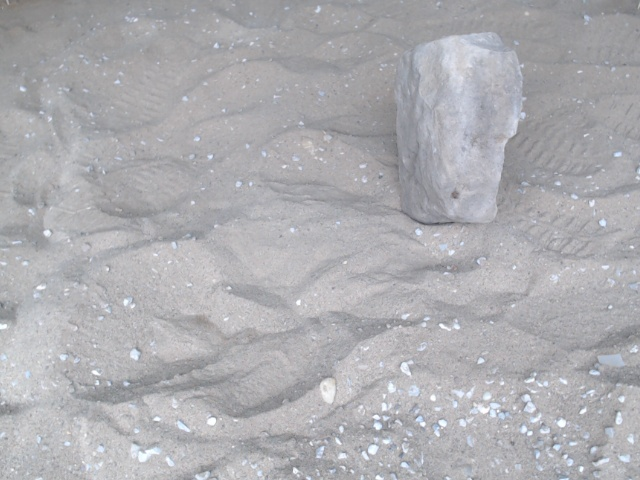rock: (385, 23, 531, 236)
